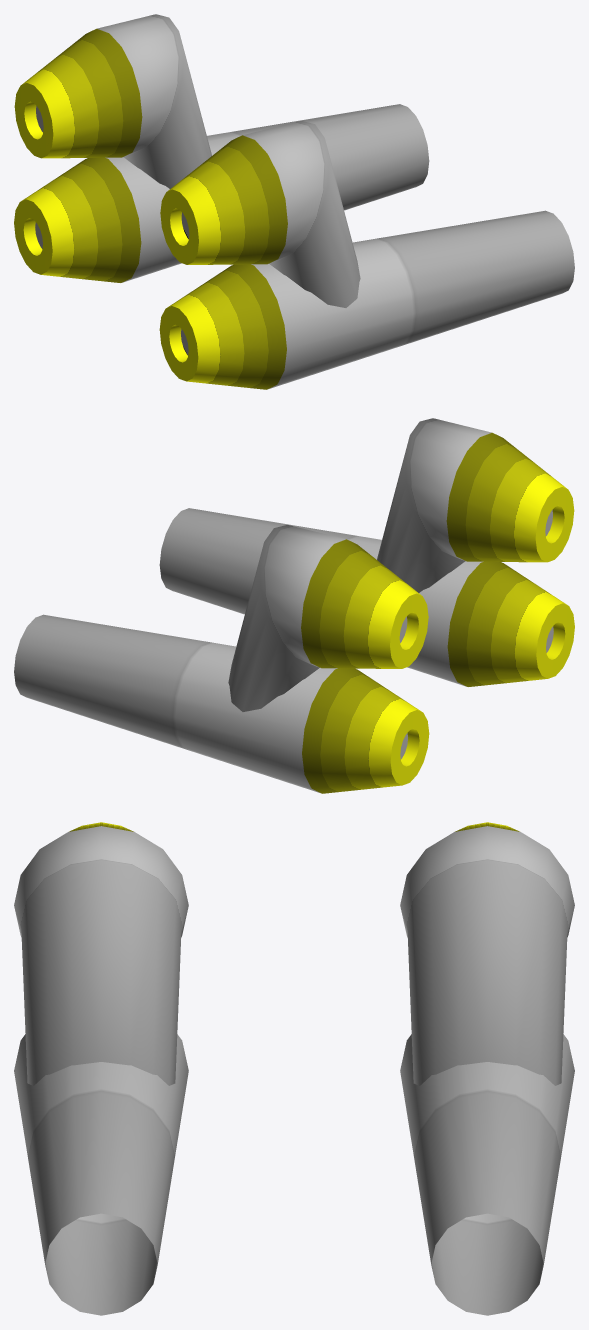
File: Angel_Exhaust.FBX
3 views of the same model, one above another, from view 1: azimuth 30°, elevation 25°; view 2: azimuth 150°, elevation 25°; view 3: azimuth 270°, elevation 25° (orthographic). The views are drawn at different scales.
Visible parts, largest first — view 1: Exhaust_Angel; view 2: Exhaust_Angel; view 3: Exhaust_Angel.
Part boxes in pixels (x1,y1,x2,y2): Exhaust_Angel: [14, 14, 574, 389]; Exhaust_Angel: [14, 418, 574, 793]; Exhaust_Angel: [14, 822, 574, 1315].
Bounding box in the file's own units: 73.35 × 46.03 × 71.76.
